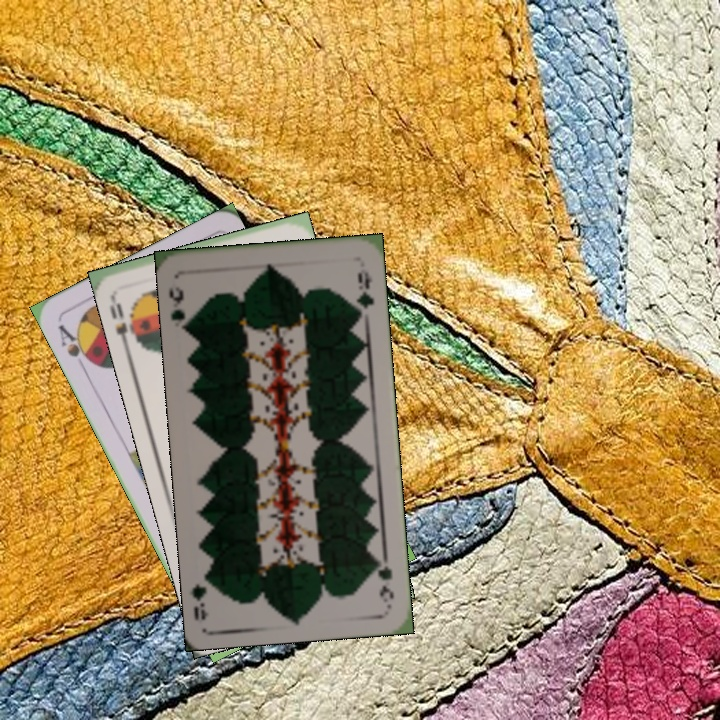G9: (164, 283, 194, 333), (372, 554, 396, 605)
SA: (54, 320, 97, 368)
SO: (105, 290, 142, 349)
